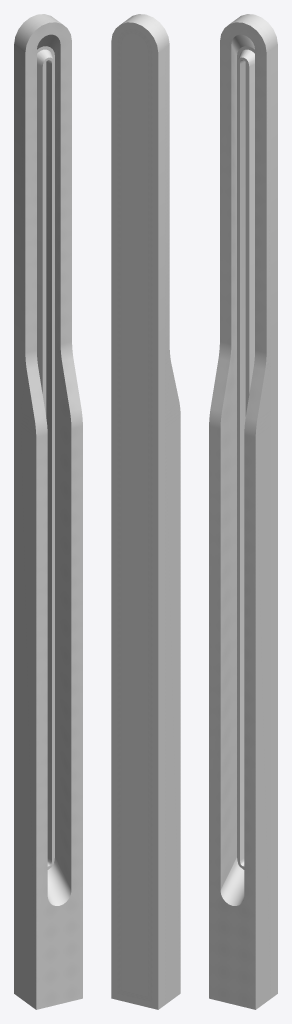
The model's file is SM_LazerDoor_01.fbx.
3 views of the same model, side by side, from view 1: azimuth 30°, elevation 25°; view 2: azimuth 150°, elevation 25°; view 3: azimuth 330°, elevation 25° (orthographic).
Visible parts, largest first — view 1: SM_LazerDoor_01; view 2: SM_LazerDoor_01; view 3: SM_LazerDoor_01.
Boxes of the visible parts, x1=… form: SM_LazerDoor_01: x1=14, y1=14, x2=82, y2=1009; SM_LazerDoor_01: x1=111, y1=14, x2=180, y2=1009; SM_LazerDoor_01: x1=209, y1=14, x2=277, y2=1009.
Bounding box in the file's own units: 14.21 × 283 × 11.7.
